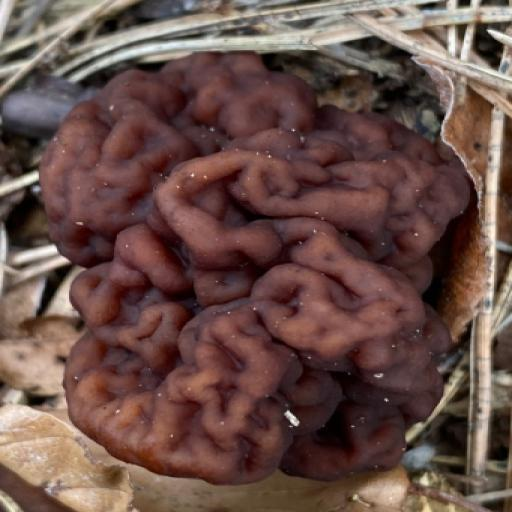mushroom: (9, 57, 479, 508)
